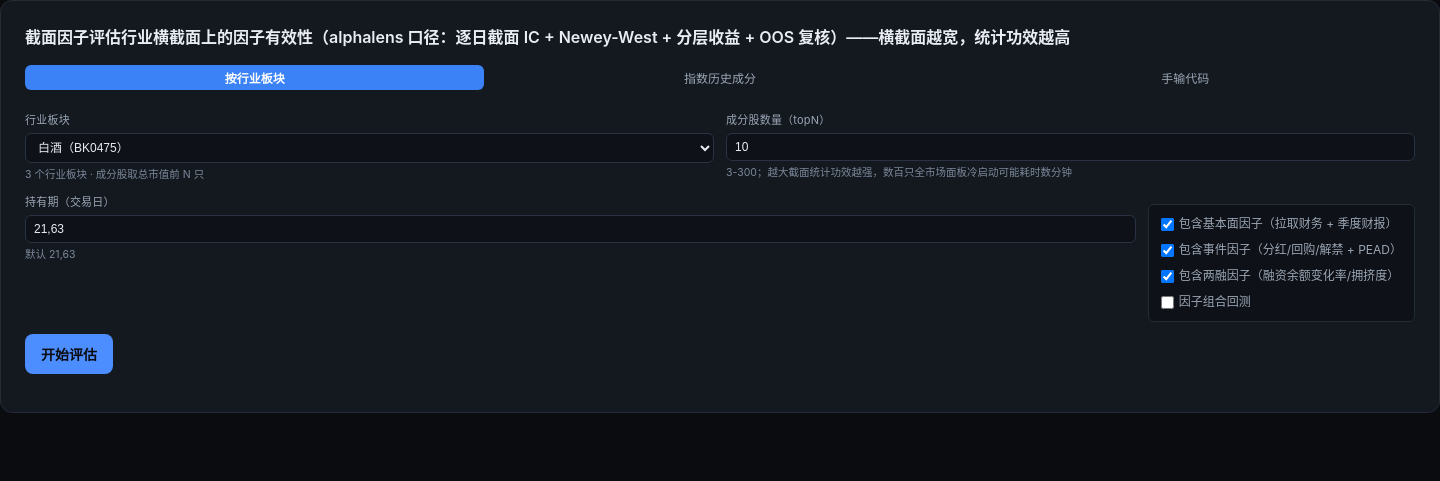
CrossSectionPanel —— 提交、加载态与取消 › 评估期间每秒刷新已耗时秒数
This screenshot has width=1440, height=481.
Click the button "开始评估": (69, 354) [25,334,113,374]
Wait 5000 ms
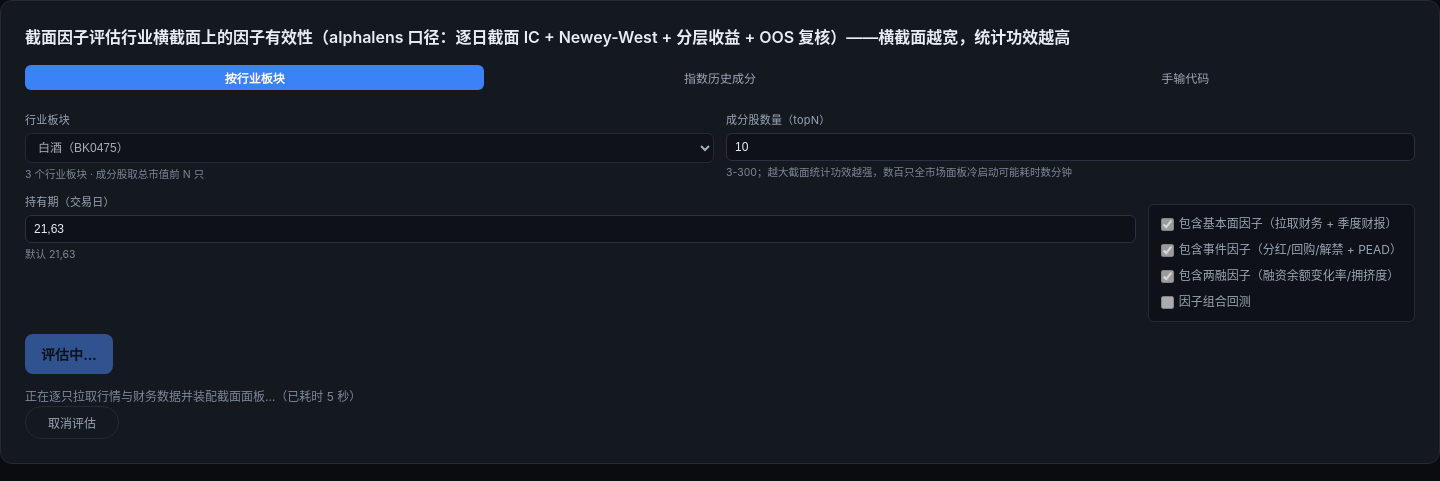
Check: the text "正在逐只拉取行情与财务数据并装配截面面板…（已耗时 5 秒）" is shown, box [25,389,361,404]
